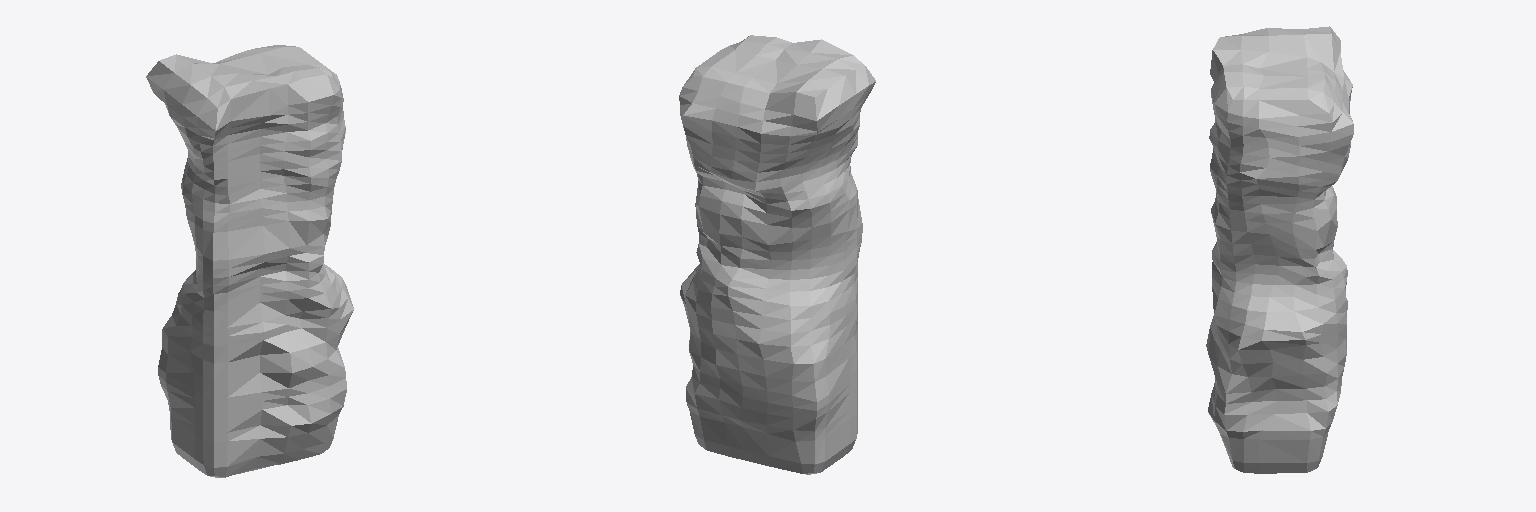
Rendered from env_level1_Canyon_Rock08.obj.
3 views of the same model, side by side, from view 1: azimuth 30°, elevation 25°; view 2: azimuth 150°, elevation 25°; view 3: azimuth 270°, elevation 25° (orthographic).
Parts seen in each view (by area): view 1: rockwall_b02; view 2: rockwall_b02; view 3: rockwall_b02.
Boxes of the visible parts, <box> form: rockwall_b02: <box>146,45,353,477</box>; rockwall_b02: <box>679,35,875,474</box>; rockwall_b02: <box>1206,26,1353,473</box>.
Size of the model in its own units: 1864 by 4273 by 1455.